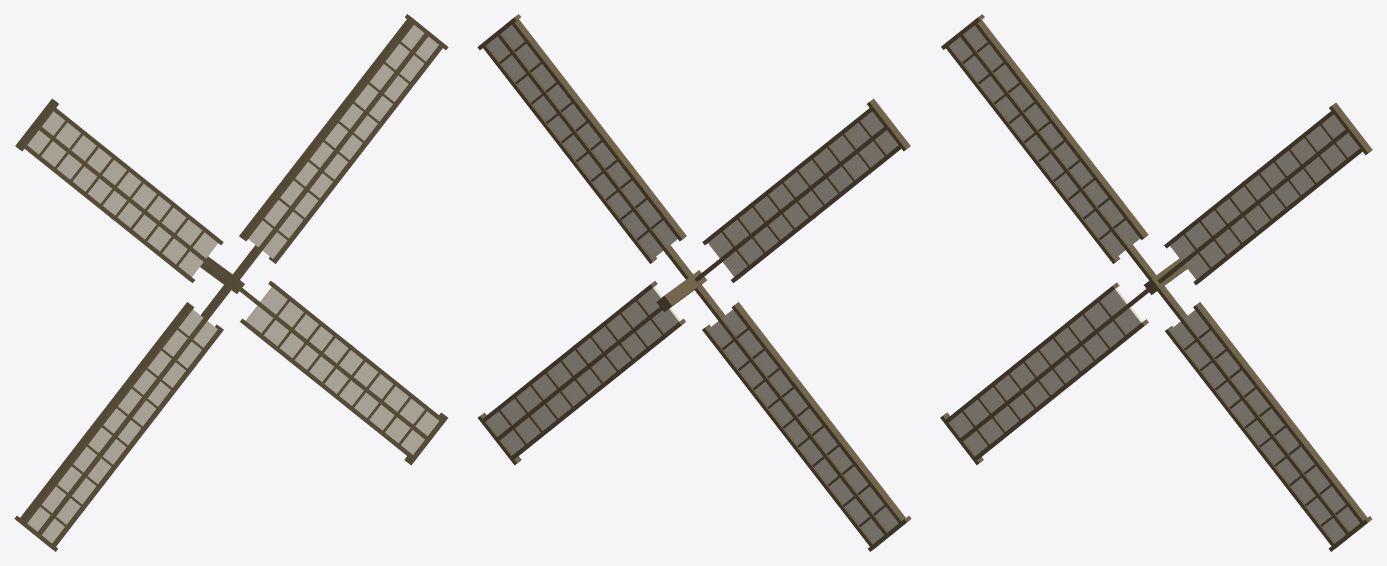
The model's file is Haspas.fbx.
3 views of the same model, side by side, from view 1: azimuth 30°, elevation 25°; view 2: azimuth 150°, elevation 25°; view 3: azimuth 330°, elevation 25° (orthographic).
Parts seen in each view (by area): view 1: pasted__polySurface80; view 2: pasted__polySurface80; view 3: pasted__polySurface80.
Boxes of the visible parts, box(x1,y1,x2,y2) form: pasted__polySurface80: box(14, 14, 448, 551); pasted__polySurface80: box(477, 14, 911, 551); pasted__polySurface80: box(940, 14, 1372, 551).
Bounding box in the file's own units: 2.66 × 2.67 × 0.3776.
